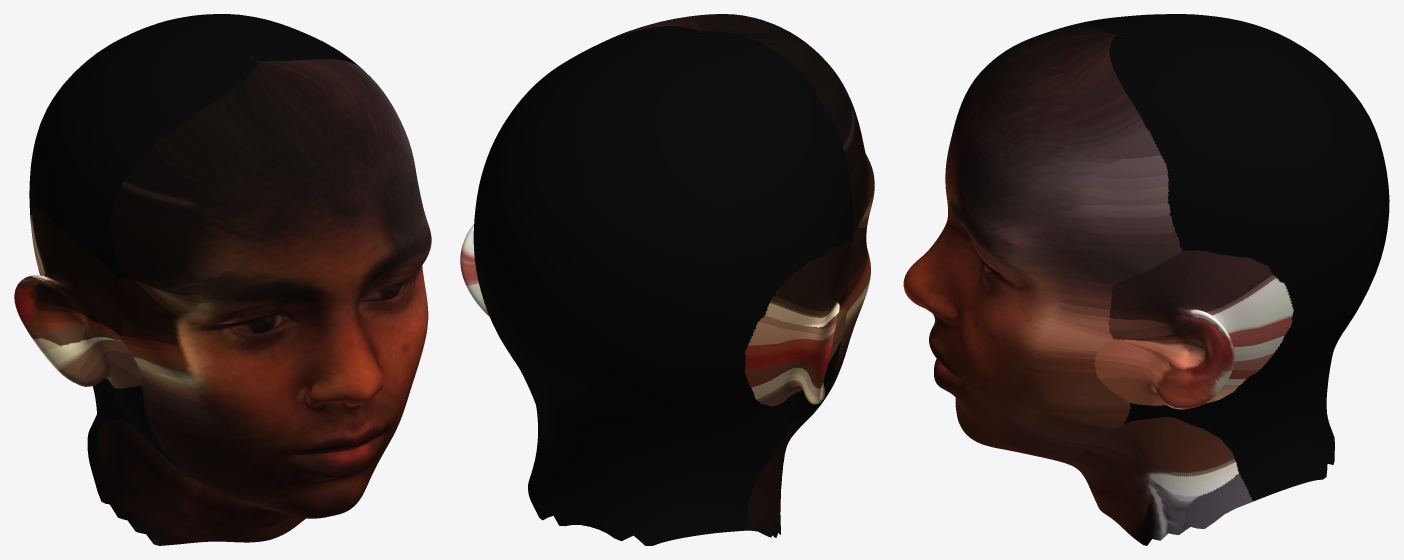
Rendered from shakhead.glb.
3 views of the same model, side by side, from view 1: azimuth 30°, elevation 25°; view 2: azimuth 150°, elevation 25°; view 3: azimuth 270°, elevation 25° (orthographic).
Visible parts, largest first — view 1: FaceBuilderHead; view 2: FaceBuilderHead; view 3: FaceBuilderHead.
Boxes of the visible parts, <box> form: FaceBuilderHead: <box>14,14,431,545</box>; FaceBuilderHead: <box>460,14,874,545</box>; FaceBuilderHead: <box>903,14,1389,545</box>.
Size of the model in its own units: 1.65 by 2.03 by 1.9.
Materials: 1 (1 with a texture image).
